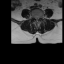CCS_normal: (36, 16, 37, 23)
LFS_stenosis: (39, 15, 41, 19)
LLS_stenosis: (38, 16, 39, 21)
RFS_stenosis: (33, 15, 34, 19)
RLS_severe_stenosis: (34, 16, 36, 20)
